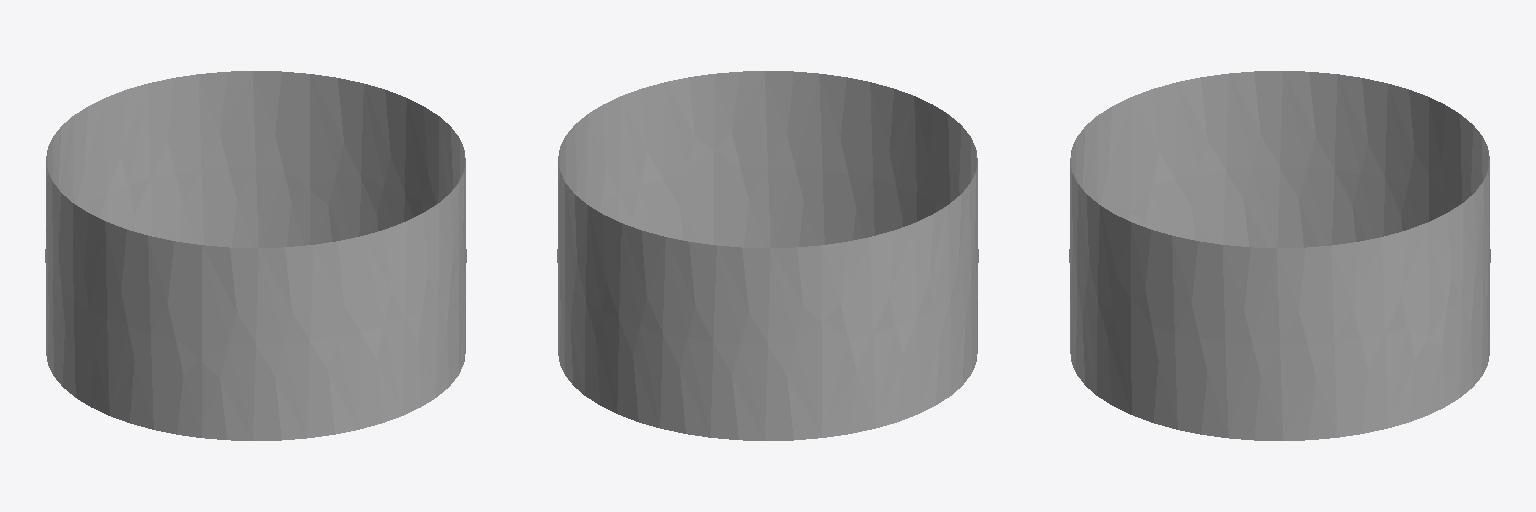
File: RainbowTube.obj
The picture shows the model from 3 angles: view 1: azimuth 30°, elevation 25°; view 2: azimuth 150°, elevation 25°; view 3: azimuth 270°, elevation 25°; orthographic projection.
Parts seen in each view (by area): view 1: SketchUp_ID3; view 2: SketchUp_ID3; view 3: SketchUp_ID3.
Boxes of the visible parts, box(x1,y1,x2,y2) form: SketchUp_ID3: box(45, 71, 466, 440); SketchUp_ID3: box(557, 71, 978, 440); SketchUp_ID3: box(1069, 71, 1490, 440).
Size of the model in its own units: 9.89 by 5 by 9.89.